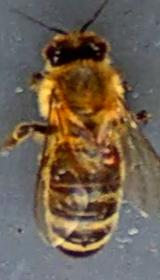varroa_mite: (91, 136, 133, 172)
